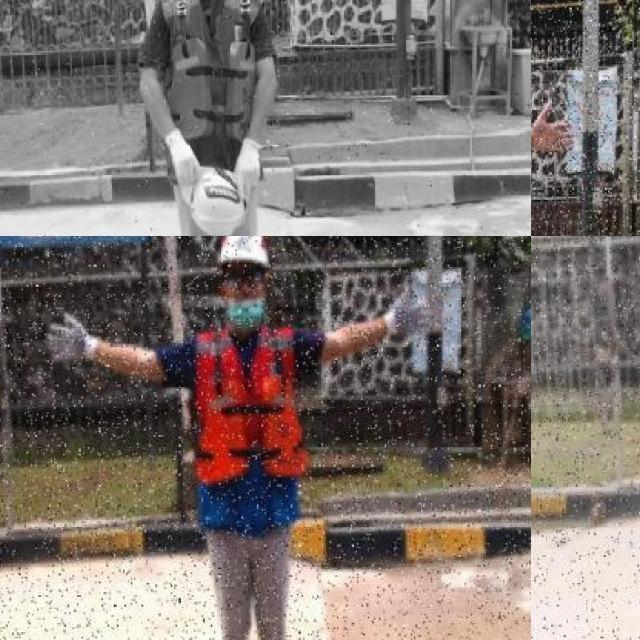apron: (46, 312, 100, 368), (386, 286, 434, 346), (164, 129, 202, 188), (236, 140, 260, 200)
